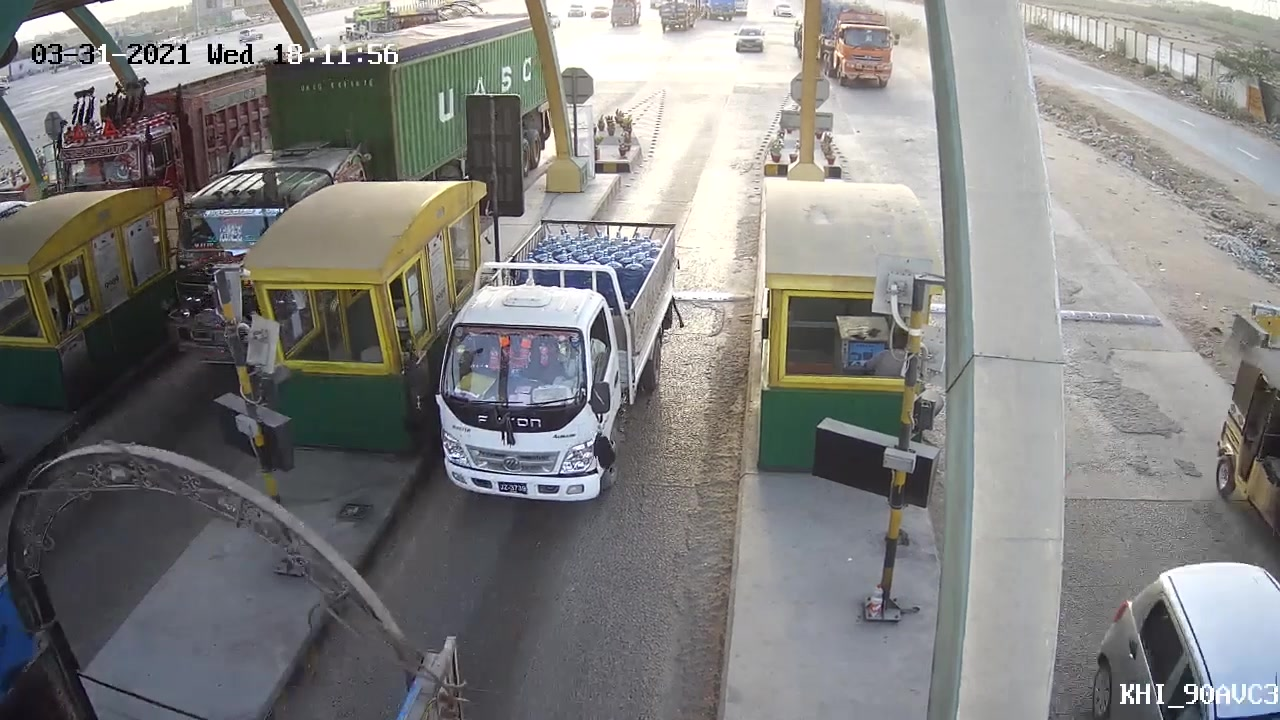F2: (436, 209, 689, 516)
